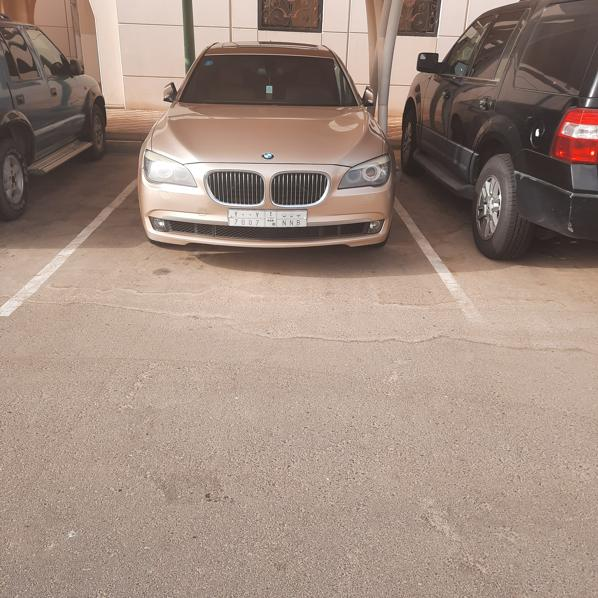numberplate: (227, 208, 308, 228)
